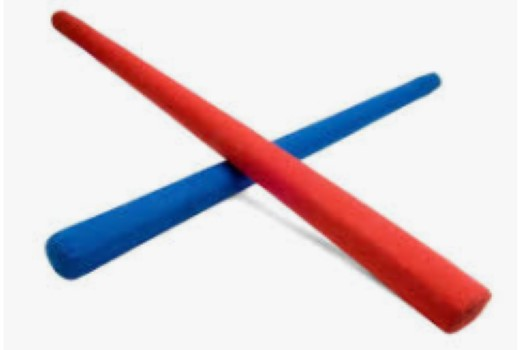baston_v: (421, 249, 497, 341), (33, 226, 90, 289), (417, 64, 450, 96), (44, 5, 79, 30)
